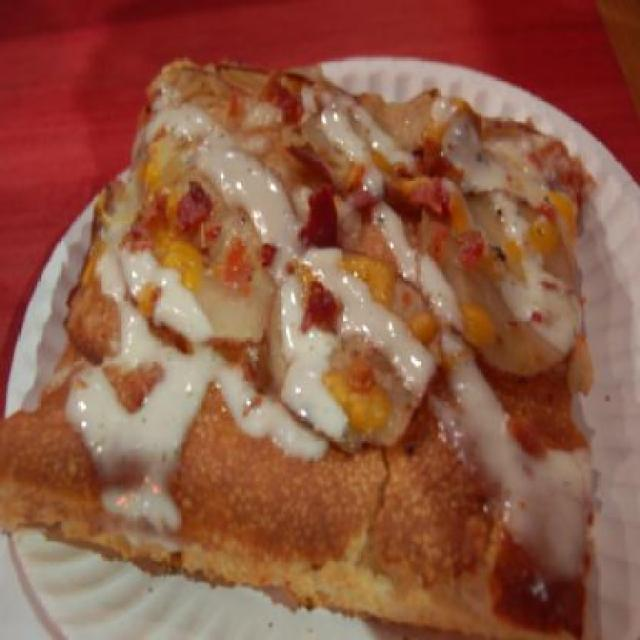Pizza: (8, 46, 594, 636)
